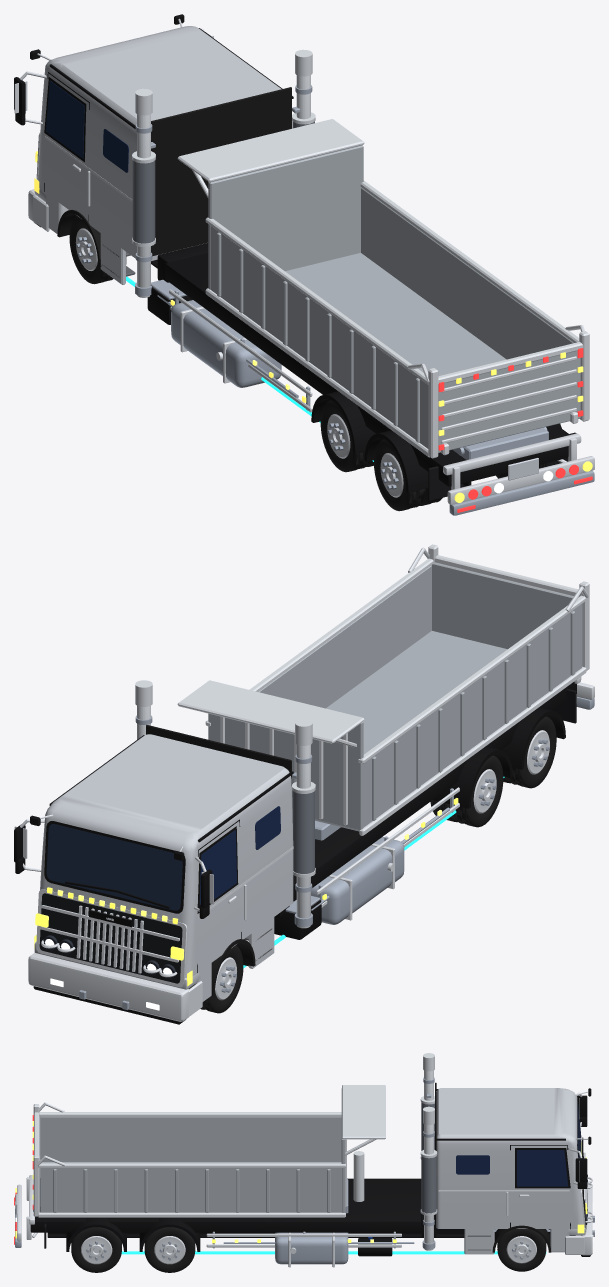
The model's file is dekotora_truck_dump.glb.
3 renders of one model, top to bottom at view 1: azimuth 30°, elevation 25°; view 2: azimuth 150°, elevation 25°; view 3: azimuth 270°, elevation 25°, orthographic. The views are drawn at different scales.
Visible parts, largest first — view 1: truck_dump_bed, truck_chrome, truck_paint_white_panel, truck_plastic_black, truck_plastic_trim, truck_steel, truck_glass, truck_mesh_perf, wheel_r_L_1.5_1.06, wheel_r_L_3.0_1.06, wheel_f_L, truck_lamp_red (+1 smaller); view 2: truck_dump_bed, truck_chrome, truck_paint_white_panel, truck_plastic_black, truck_glass_wind, truck_steel, truck_vent_slots, truck_glass, truck_plastic_trim, wheel_r_L_3.0_1.06, wheel_r_L_1.5_1.06, truck_mesh_perf (+2 smaller); view 3: truck_dump_bed, truck_paint_white_panel, truck_chrome, truck_plastic_black, truck_steel, truck_glass, wheel_r_R_3.0_1.06, wheel_r_R_1.5_1.06, wheel_f_R, truck_mesh_perf, truck_lamp_cyan, truck_plastic_trim.
Boxes of the visible parts, x1,y1,x2,y2 form: truck_dump_bed: (208,145,580,452); truck_chrome: (14,18,594,504); truck_paint_white_panel: (34,26,292,284); truck_plastic_black: (14,14,569,492); truck_plastic_trim: (57,87,291,267); truck_steel: (135,85,594,515); truck_glass: (45,80,128,172); truck_mesh_perf: (132,121,314,243); wheel_r_L_1.5_1.06: (374,439,425,511); wheel_r_L_3.0_1.06: (320,400,369,472); wheel_f_L: (69,216,113,284); truck_lamp_red: (438,348,592,512); truck_dump_bed: (208,562,582,831); truck_chrome: (14,544,594,1021); truck_paint_white_panel: (34,734,293,1001); truck_plastic_black: (14,682,576,1024); truck_glass_wind: (46,824,182,910); truck_steel: (79,696,594,1010); truck_vent_slots: (39,893,182,983); truck_glass: (199,806,280,905); truck_plastic_trim: (146,725,291,996); wheel_r_L_3.0_1.06: (453,755,503,827); wheel_r_L_1.5_1.06: (507,716,556,788); truck_mesh_perf: (292,791,314,873); truck_dump_bed: (39,1088,345,1212); truck_paint_white_panel: (436,1088,585,1254); truck_chrome: (17,1053,592,1267); truck_plastic_black: (30,1088,591,1256); truck_steel: (15,1077,594,1264); truck_glass: (456,1150,568,1186); wheel_r_R_3.0_1.06: (144,1227,195,1272); wheel_r_R_1.5_1.06: (71,1227,121,1272); wheel_f_R: (497,1229,546,1271); truck_mesh_perf: (421,1102,436,1213); truck_lamp_cyan: (121,1251,546,1254); truck_plastic_trim: (435,1082,551,1252).
Size of the model in its own units: 3.24 by 3.75 by 11.89.
Materials: 21 (7 with a texture image).
